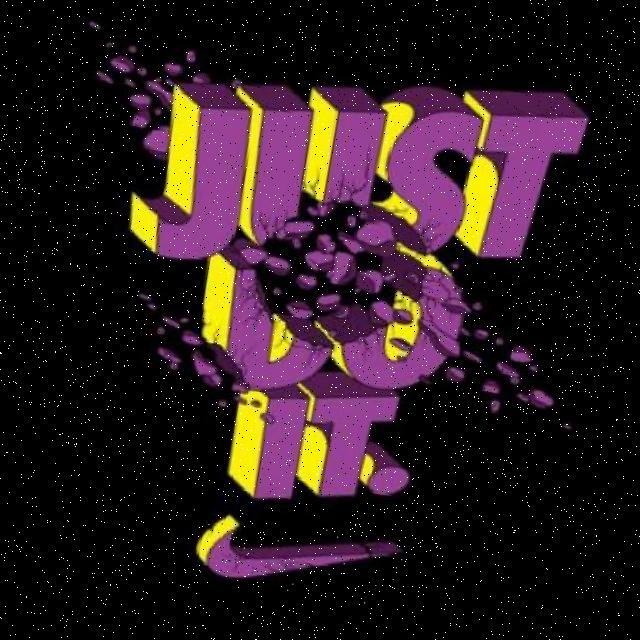Nike: (182, 503, 407, 609)
